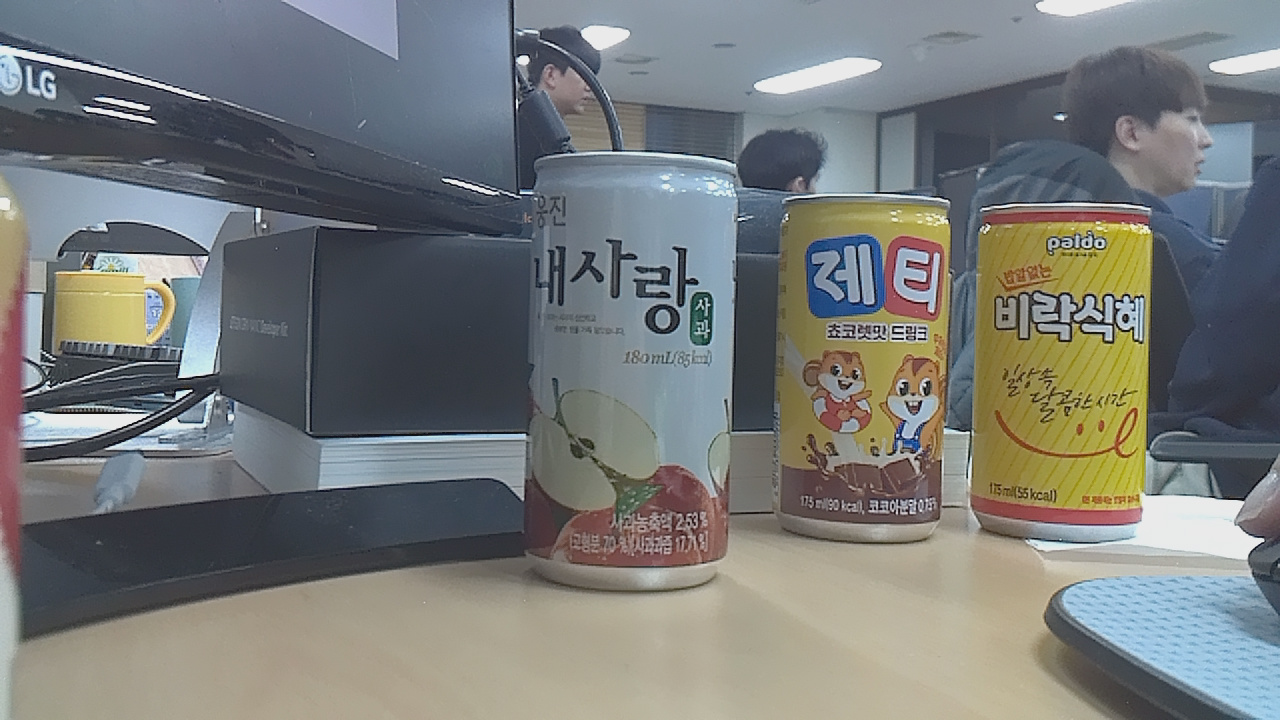jetty: (770, 185, 956, 561)
mylove apple: (524, 139, 749, 611)
paldo shikhye: (970, 203, 1166, 550)
